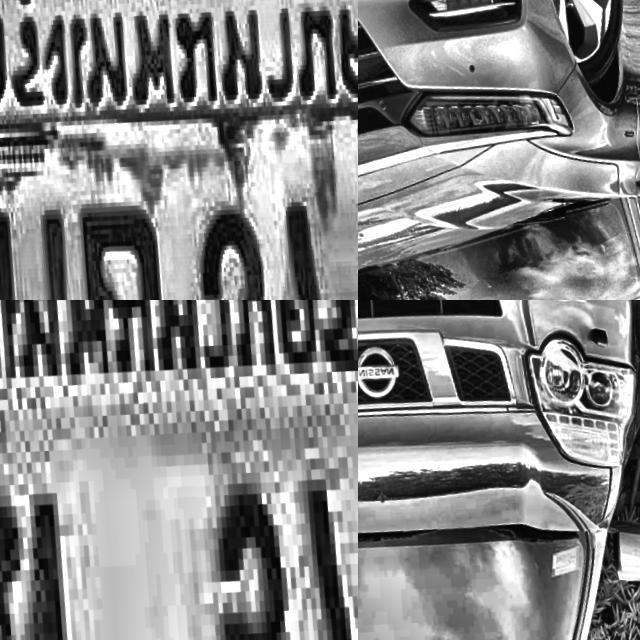license-plate: (0, 300, 358, 640), (0, 0, 358, 300)
